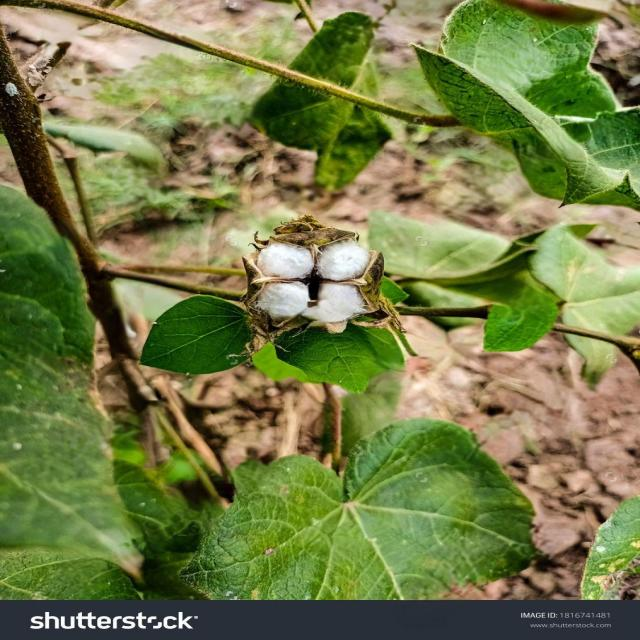Leaf: (206, 197, 412, 352)
